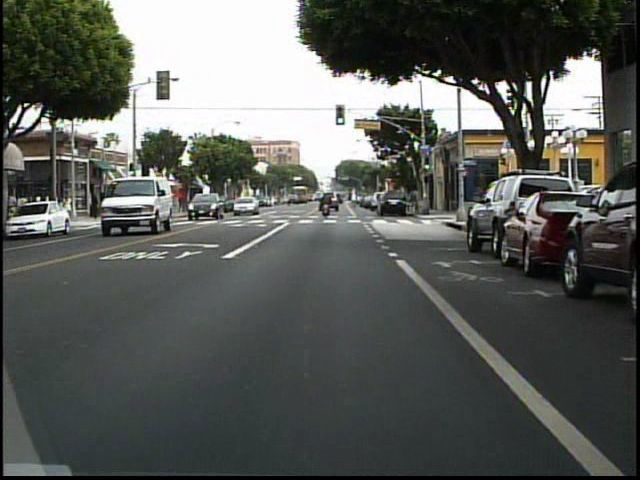person: (62, 188, 77, 228), (321, 189, 336, 219), (91, 192, 102, 221)
